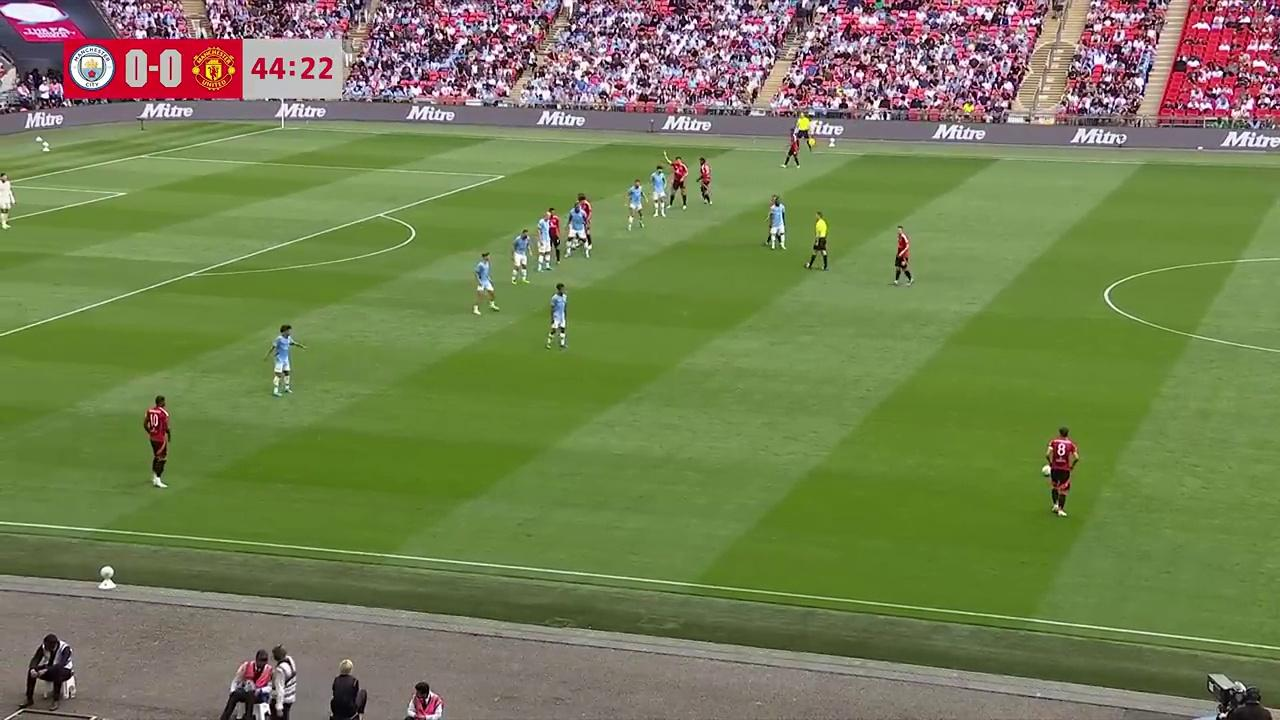ball: (1044, 462, 1052, 478)
player: (1043, 426, 1078, 517), (265, 323, 305, 396), (144, 394, 171, 488), (472, 251, 499, 314), (546, 283, 568, 349), (563, 204, 589, 259), (535, 207, 558, 269), (569, 195, 591, 257), (892, 226, 913, 286), (510, 228, 531, 284), (624, 178, 646, 230), (765, 195, 786, 249), (543, 206, 561, 265), (534, 218, 554, 270), (649, 167, 669, 217), (668, 156, 688, 206), (578, 193, 593, 254), (0, 173, 15, 229), (655, 153, 674, 194), (698, 156, 712, 205), (782, 133, 801, 169), (800, 116, 817, 152)
referee: (804, 211, 829, 271)
